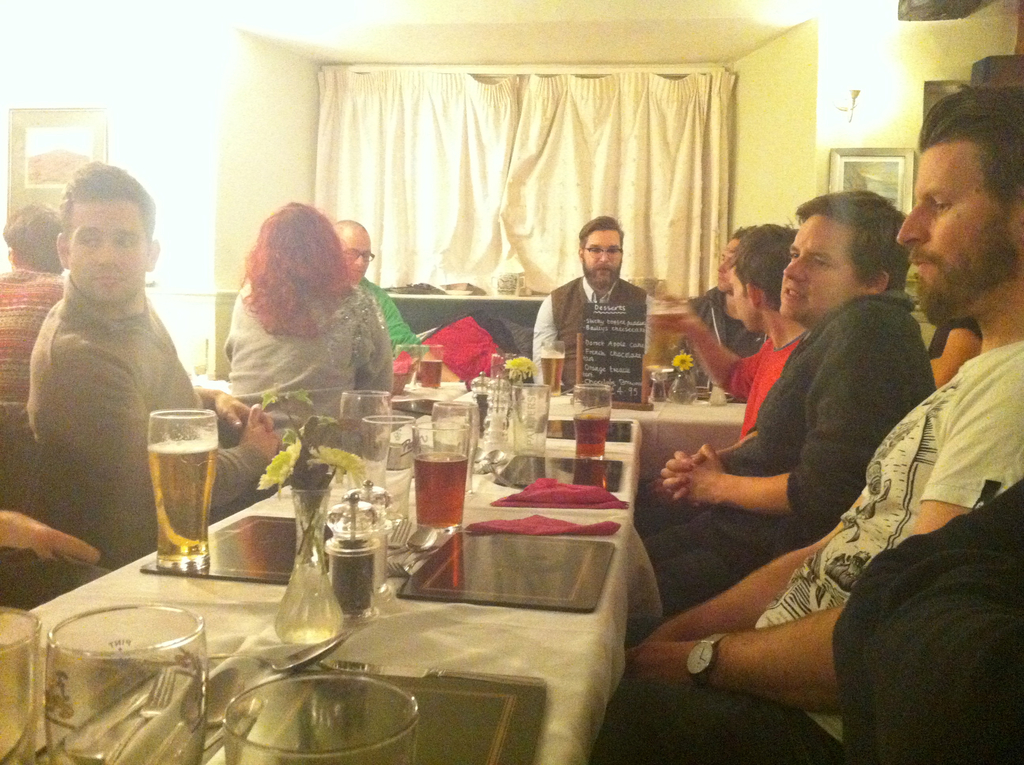Beer: (145, 436, 215, 558), (414, 440, 467, 530), (574, 407, 609, 460)
